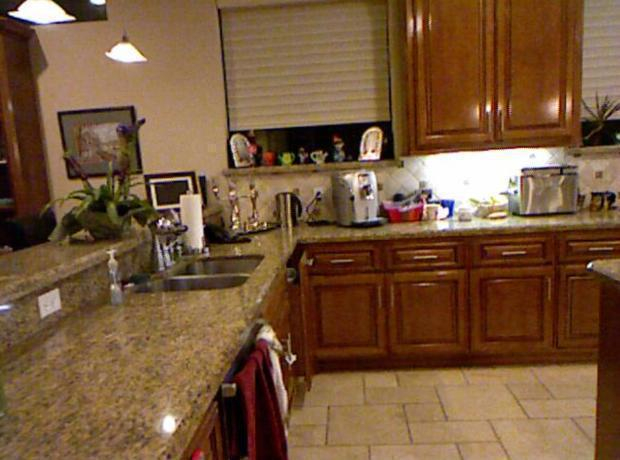Lavaplatos: (130, 208, 273, 311)
